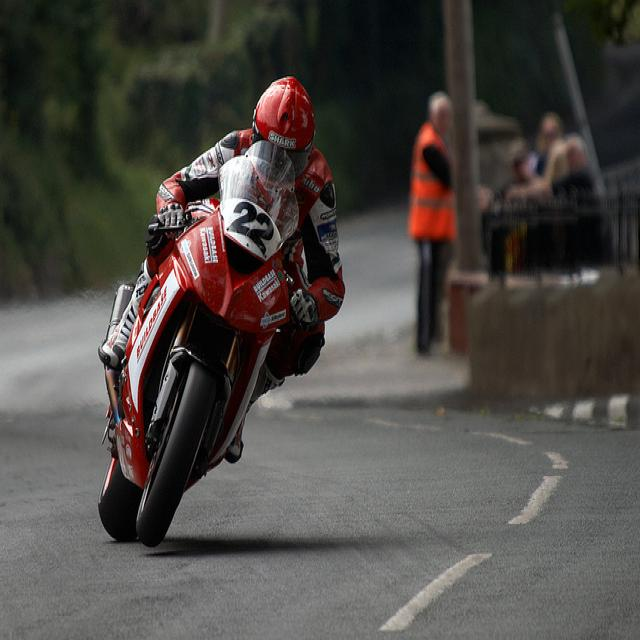motor: (97, 132, 309, 549)
